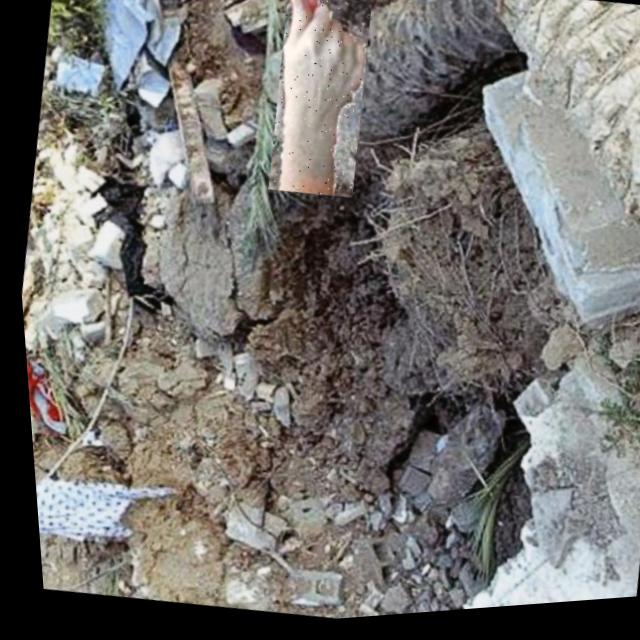Person in Rubble: (253, 0, 382, 206)
